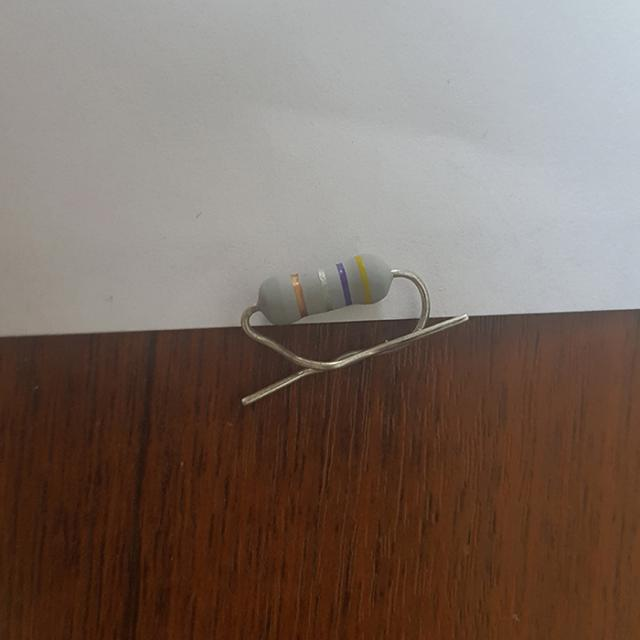Resistor Carbon-Film: (248, 249, 399, 326)
